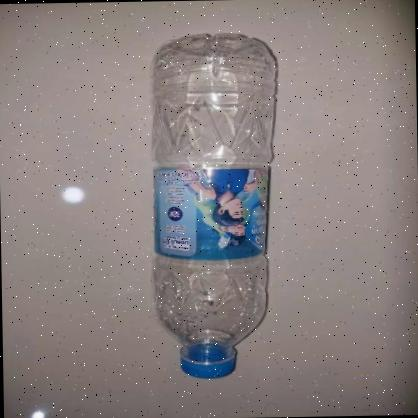bottle: (147, 31, 285, 384)
cap: (174, 347, 242, 378)
label: (152, 163, 274, 261)
